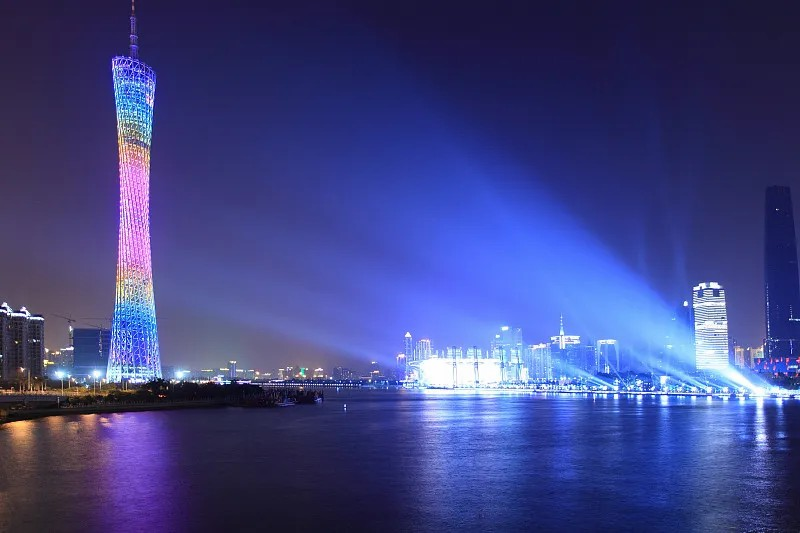Canton: (106, 1, 162, 383)
